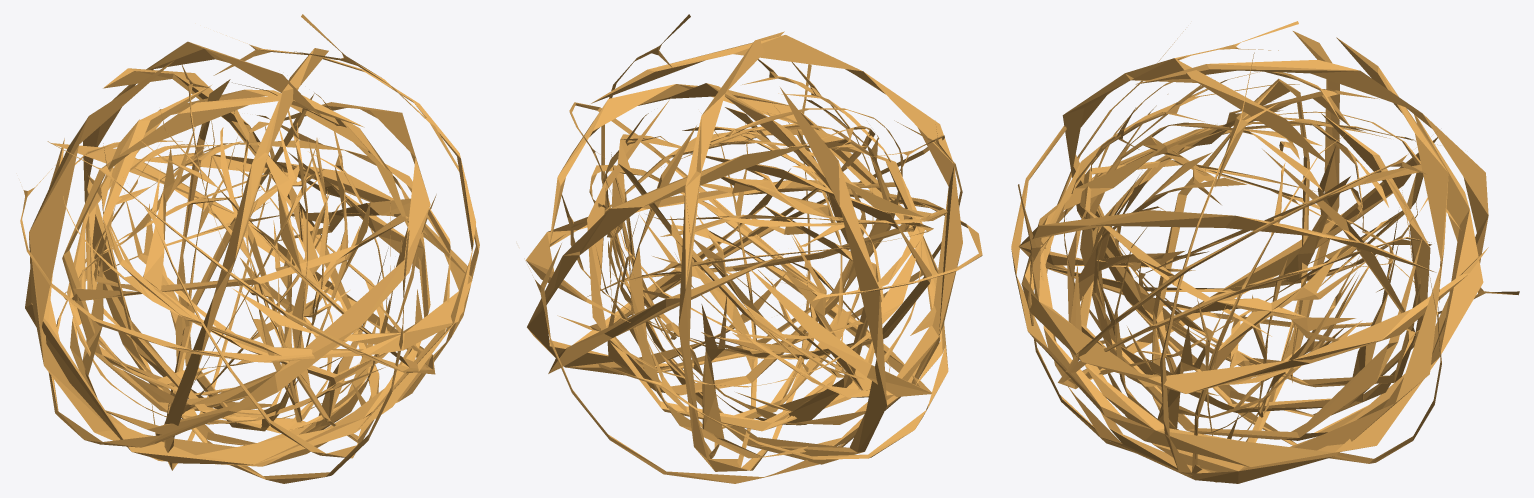
The model's file is tumbleweed1.glb.
3 renders of one model, left to right at view 1: azimuth 30°, elevation 25°; view 2: azimuth 150°, elevation 25°; view 3: azimuth 270°, elevation 25°, orthographic. The views are drawn at different scales.
Parts seen in each view (by area): view 1: Plane.007; view 2: Plane.007; view 3: Plane.007.
Part boxes in pixels (x1,y1,x2,y2): Plane.007: [20, 14, 479, 483]; Plane.007: [524, 14, 982, 483]; Plane.007: [1011, 21, 1519, 483].
Size of the model in its own units: 1.72 by 1.81 by 1.84.
